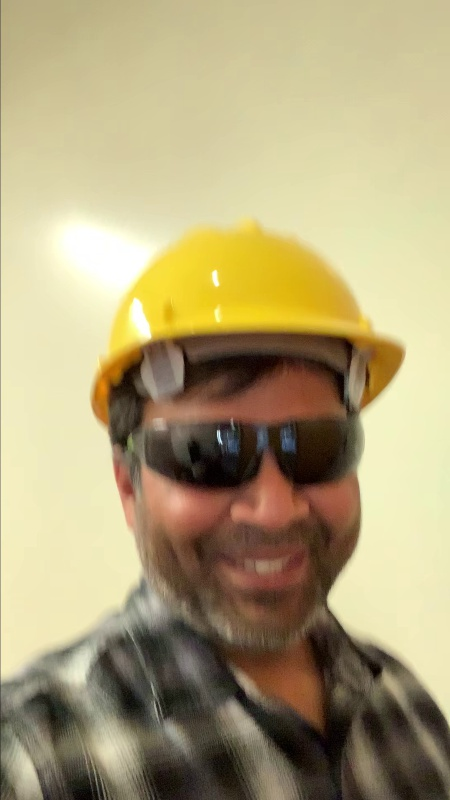glasses: (130, 411, 363, 498)
helmet: (91, 216, 412, 412)
